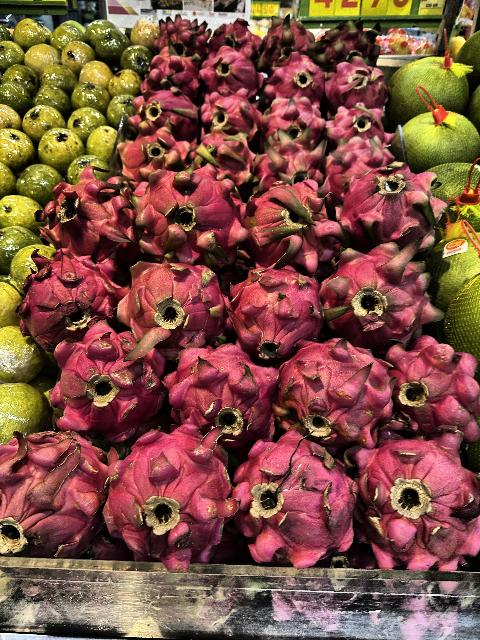buah-naga-belum-matang: (324, 236, 438, 344), (129, 160, 245, 266), (121, 262, 229, 352), (322, 131, 392, 193), (254, 136, 324, 188), (254, 94, 326, 144), (189, 130, 253, 186), (118, 129, 186, 173), (314, 22, 380, 64)
buah-naga-matang: (218, 431, 363, 572), (344, 434, 478, 568), (99, 435, 243, 557), (0, 418, 108, 554), (276, 326, 390, 446), (172, 344, 280, 451), (50, 334, 168, 431), (388, 334, 480, 450), (13, 249, 114, 341), (240, 177, 332, 267), (49, 176, 136, 256), (350, 173, 430, 244), (200, 44, 268, 102), (135, 88, 204, 144), (320, 100, 392, 146), (264, 52, 324, 104), (154, 16, 220, 62), (200, 88, 258, 140), (325, 63, 385, 111), (152, 44, 202, 98), (206, 12, 262, 60), (255, 19, 311, 59)
